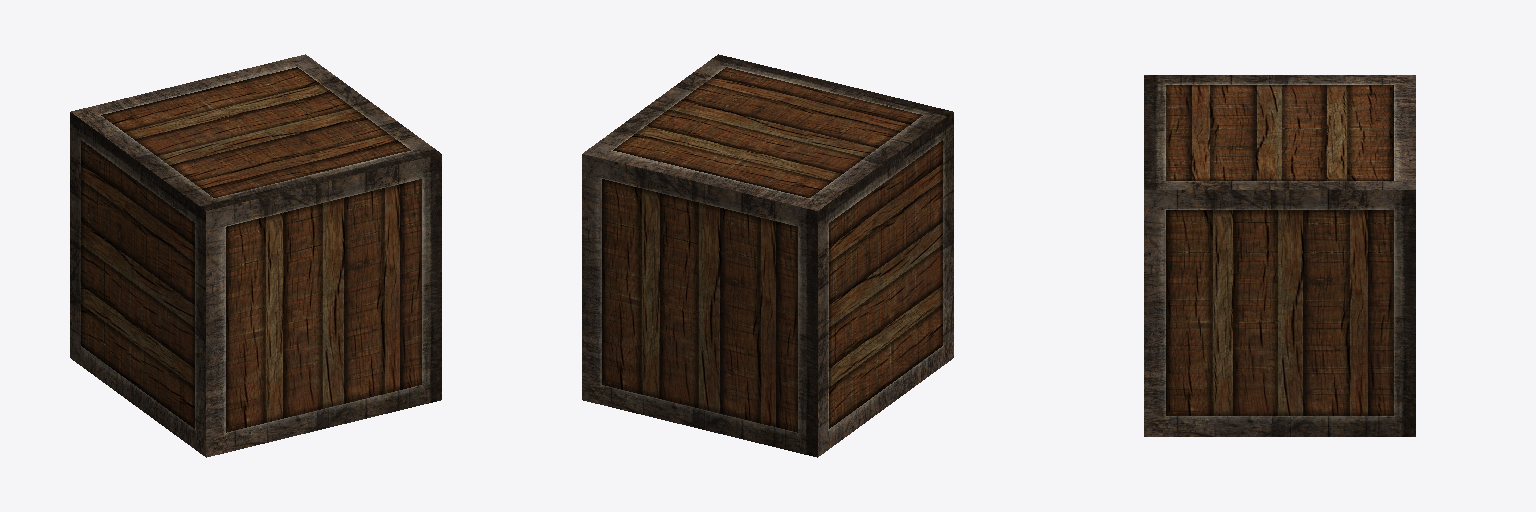
3 renders of one model, left to right at view 1: azimuth 30°, elevation 25°; view 2: azimuth 150°, elevation 25°; view 3: azimuth 270°, elevation 25°, orthographic.
Parts seen in each view (by area): view 1: Cube_Cube.001; view 2: Cube_Cube.001; view 3: Cube_Cube.001.
Boxes of the visible parts, box(x1,y1,x2,y2) form: Cube_Cube.001: box(70, 54, 441, 457); Cube_Cube.001: box(582, 54, 953, 457); Cube_Cube.001: box(1144, 75, 1415, 436).
Bounding box in the file's own units: 2 × 2 × 2.
1 materials, 1 textured.